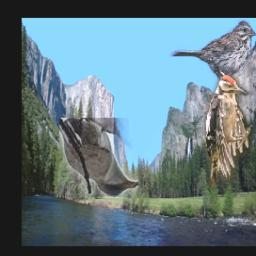Cuckoo: (59, 118, 138, 198)
Sparrow: (169, 19, 256, 91)
Woodpecker: (205, 76, 253, 189)
